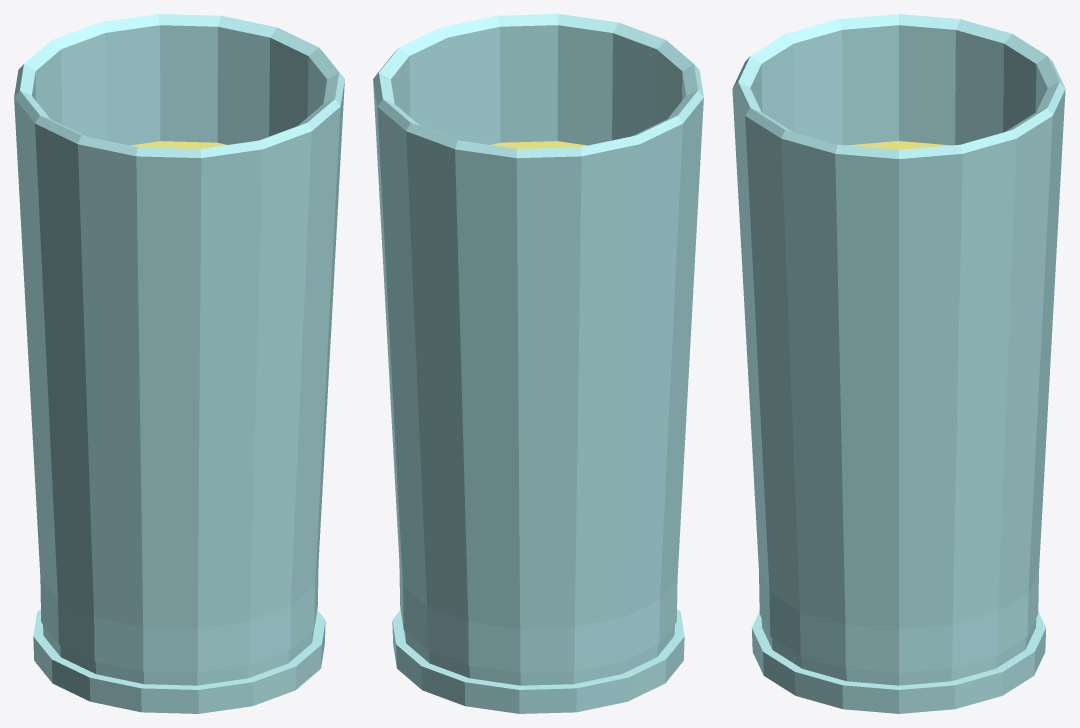
File: cupFilledYellow.fbx
The picture shows the model from 3 angles, left to right: view 1: azimuth 30°, elevation 25°; view 2: azimuth 150°, elevation 25°; view 3: azimuth 270°, elevation 25°; orthographic projection.
Parts seen in each view (by area): view 1: Cup, Juice; view 2: Cup, Juice; view 3: Cup, Juice.
Boxes of the visible parts, <box> form: Cup: <box>14,14,344,713</box>; Juice: <box>130,141,226,148</box>; Cup: <box>373,14,703,713</box>; Juice: <box>491,141,587,148</box>; Cup: <box>732,14,1065,713</box>; Juice: <box>847,141,950,149</box>.
Bounding box in the file's own units: 228 × 430 × 228.
